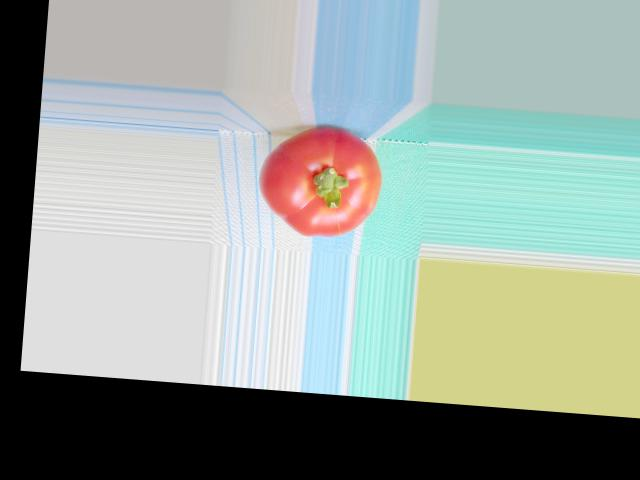tomato: (256, 121, 385, 241)
